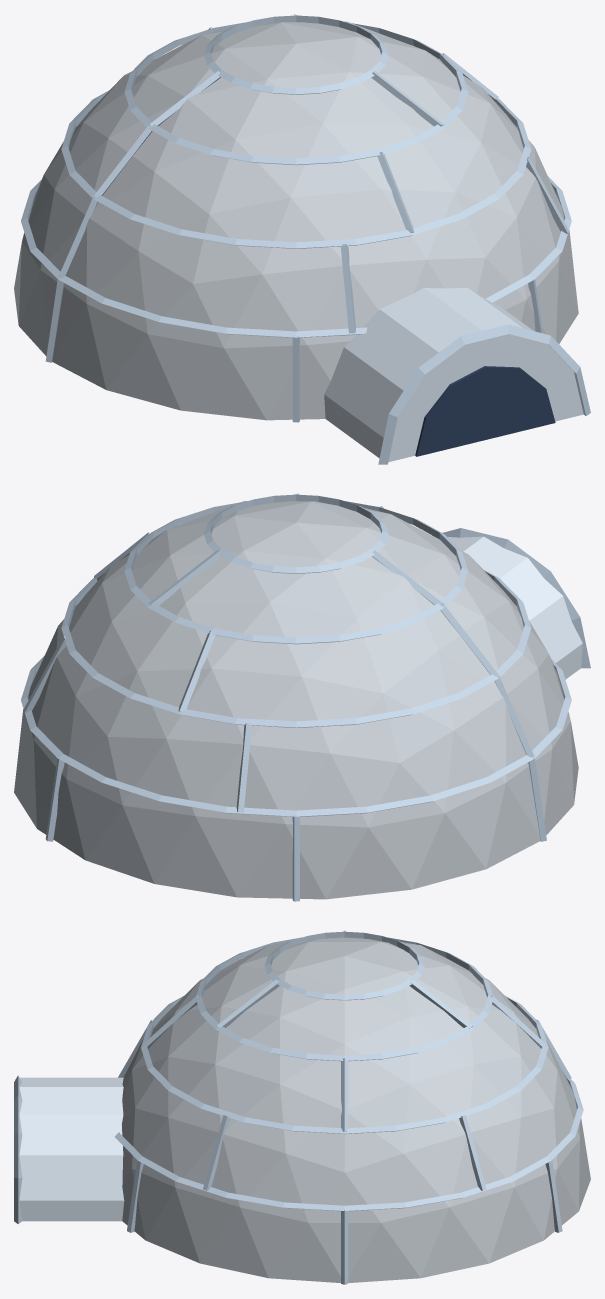
File: Igloo.fbx
3 views of the same model, one above another, from view 1: azimuth 30°, elevation 25°; view 2: azimuth 150°, elevation 25°; view 3: azimuth 270°, elevation 25° (orthographic). The views are drawn at different scales.
Parts seen in each view (by area): view 1: Blocks, Seams, Tunnel, Inside; view 2: Blocks, Seams, Tunnel; view 3: Blocks, Seams, Tunnel.
Part boxes in pixels (x1,y1,x2,y2): Blocks: [14, 21, 578, 420]; Seams: [21, 14, 590, 464]; Tunnel: [324, 288, 583, 462]; Inside: [415, 366, 555, 456]; Blocks: [14, 501, 578, 899]; Seams: [21, 493, 590, 901]; Tunnel: [448, 536, 582, 679]; Blocks: [121, 937, 590, 1282]; Seams: [14, 930, 583, 1284]; Tunnel: [19, 1077, 124, 1221].
Bounding box in the file's own units: 9.38 × 4.61 × 10.78.
